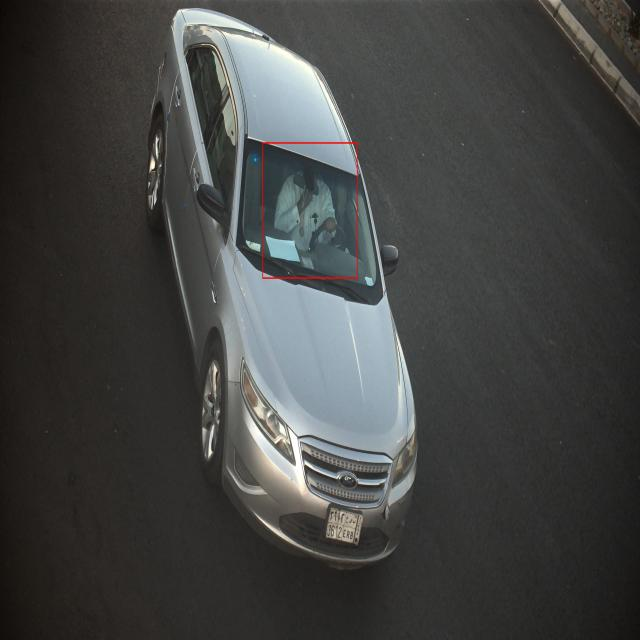windshield: (236, 130, 386, 310)
